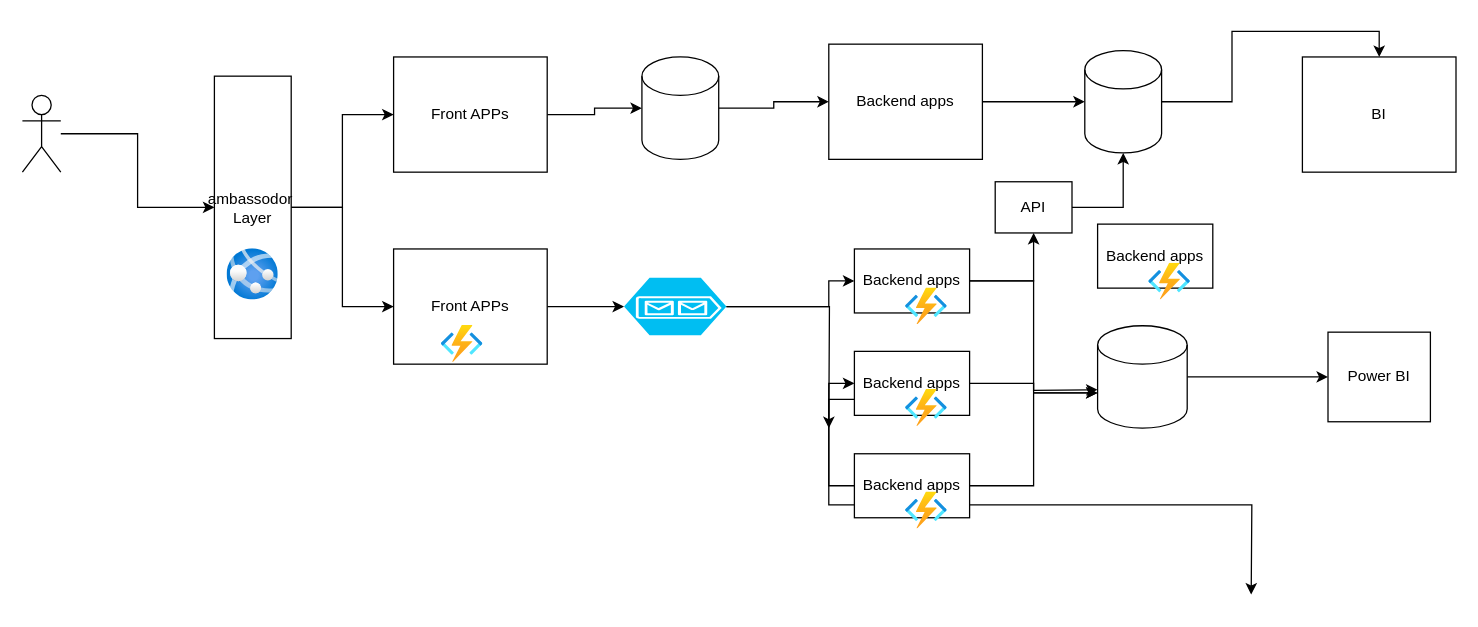
Some shapes in this 1478 by 627 pixel diagram are drawn without their labels. Each missing label, with the centre of its shape:
"Actor" goes at (x=41, y=133).
"Azure Service Bus Topic" goes at (x=674, y=306).
"DW" goes at (x=1141, y=376).
"RDBMS" goes at (x=680, y=107).
"Terradata" goes at (x=1123, y=101).
